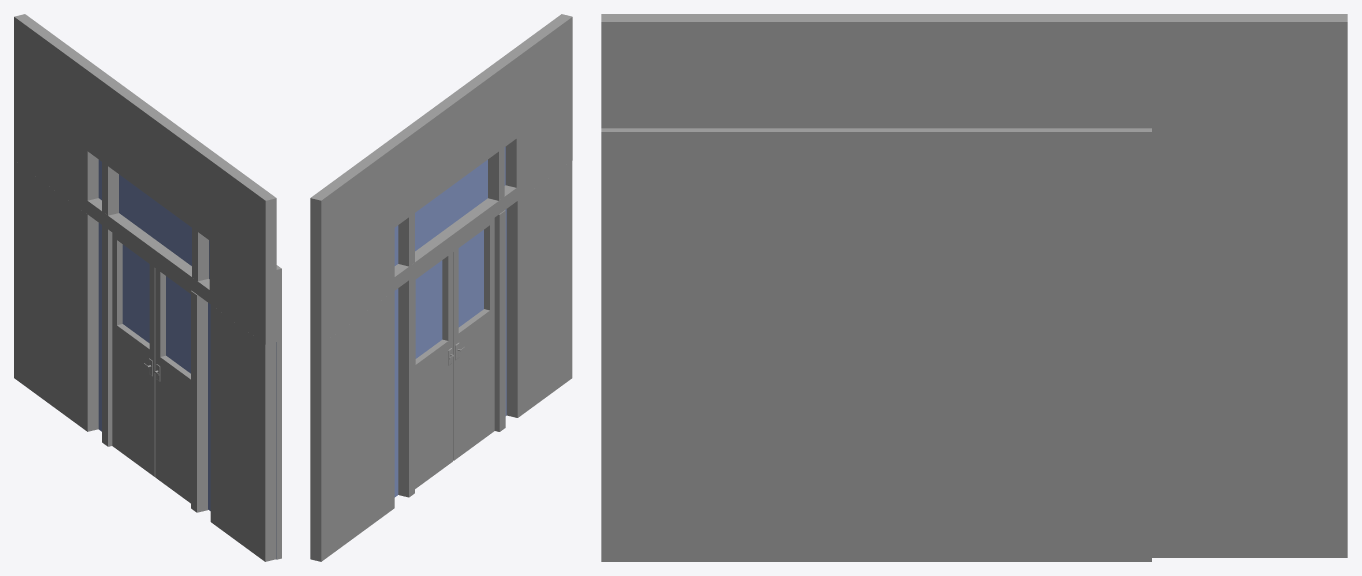
The model's file is Door_Long.fbx.
3 renders of one model, left to right at view 1: azimuth 30°, elevation 25°; view 2: azimuth 150°, elevation 25°; view 3: azimuth 270°, elevation 25°, orthographic. The views are drawn at different scales.
Visible parts, largest first — view 1: Door_Long; view 2: Door_Long; view 3: Door_Long.
Part boxes in pixels (box(x1,y1,x2,y2)): Door_Long: box(14, 14, 281, 561); Door_Long: box(310, 14, 572, 561); Door_Long: box(601, 14, 1347, 561).
Size of the model in its own units: 20.21 by 411 by 519.
